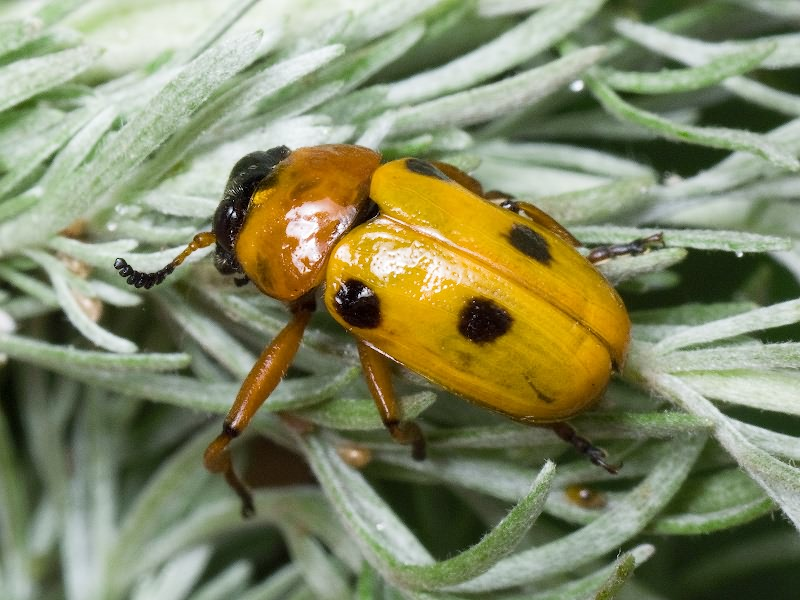Tituboea_macropus: (103, 131, 666, 539)
